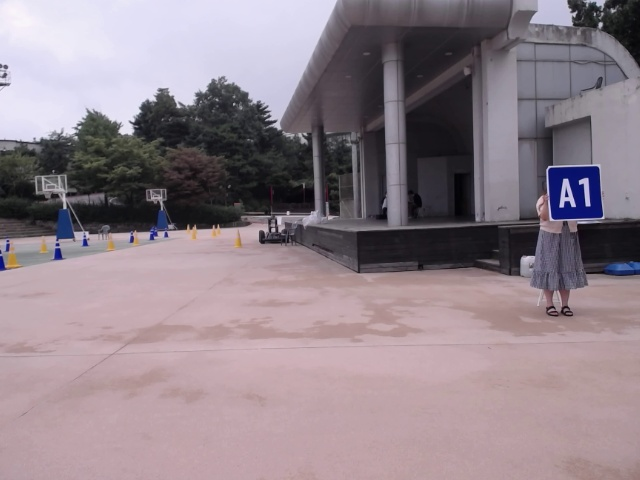delivery_a1: (548, 164, 604, 221)
